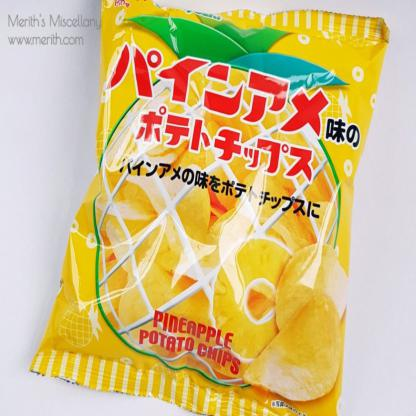potatochip: (23, 0, 393, 415)
